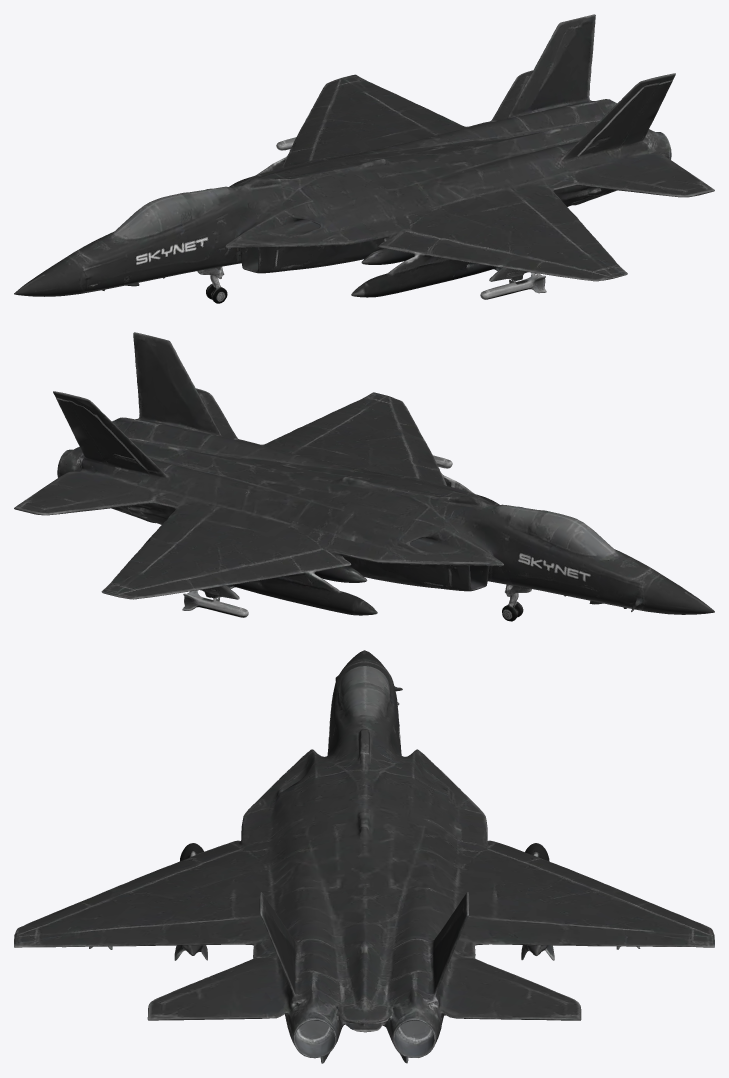
Rendered from military-aircraft.glb.
The picture shows the model from 3 angles, top to bottom: view 1: azimuth 30°, elevation 25°; view 2: azimuth 150°, elevation 25°; view 3: azimuth 270°, elevation 25°; orthographic projection. The views are drawn at different scales.
Size of the model in its own units: 1.9 by 0.4482 by 1.42.
Materials: 1 (1 with a texture image).
